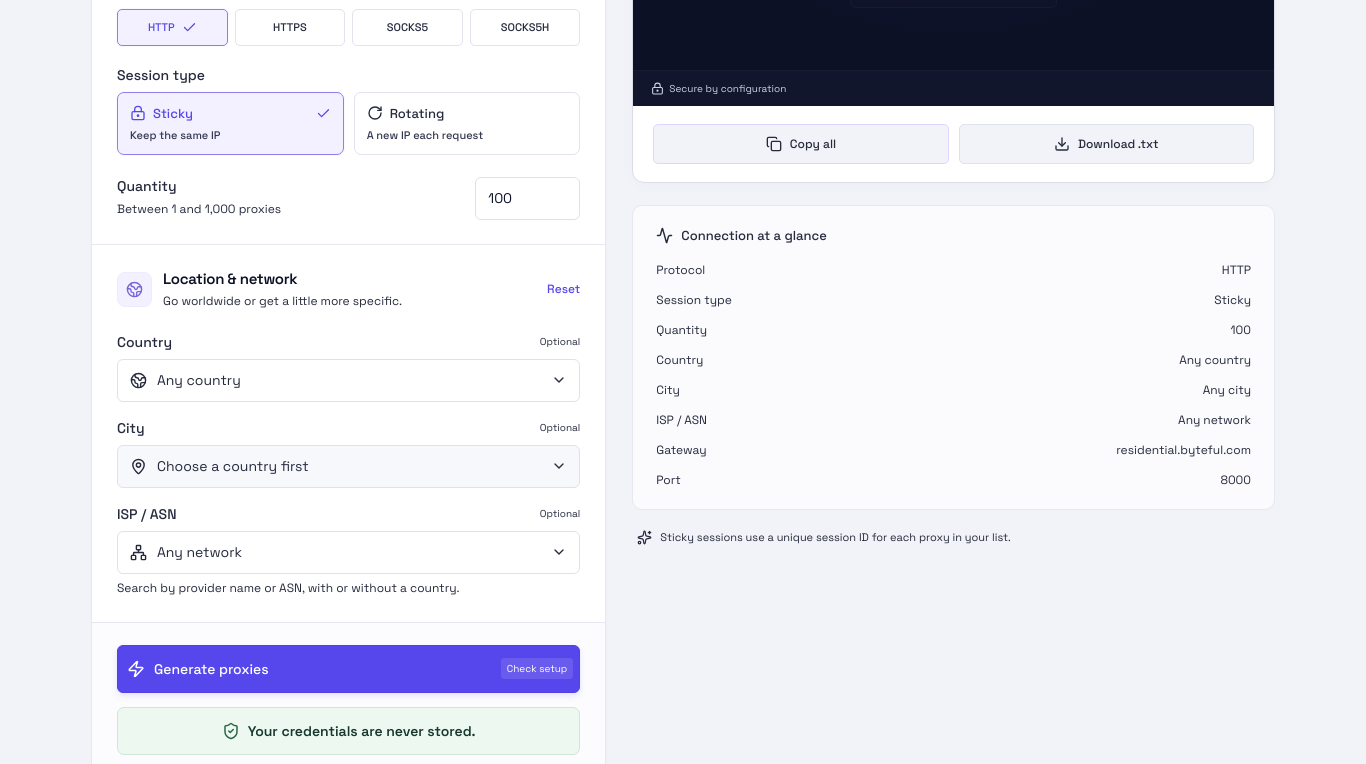
generator user flow › debounces location search and gives actionable empty results
(page scrolled)
Click the button "Any country" at (199, 380), box [117, 359, 580, 402]
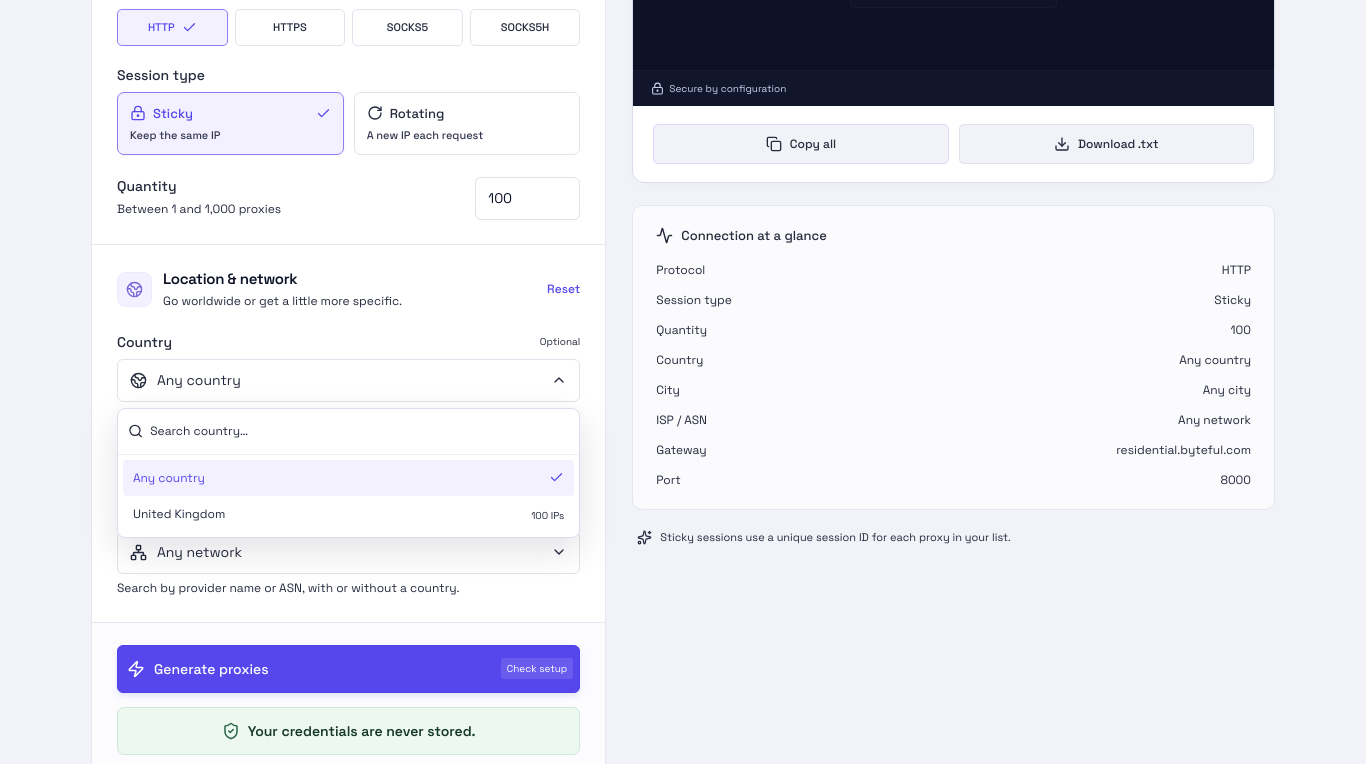
expect the option "United Kingdom 100 IPs" is shown: met, box [123, 496, 574, 532]
Type "Atlantis" into the dropdown labelled "Search country" at (360, 431), box [150, 415, 569, 448]
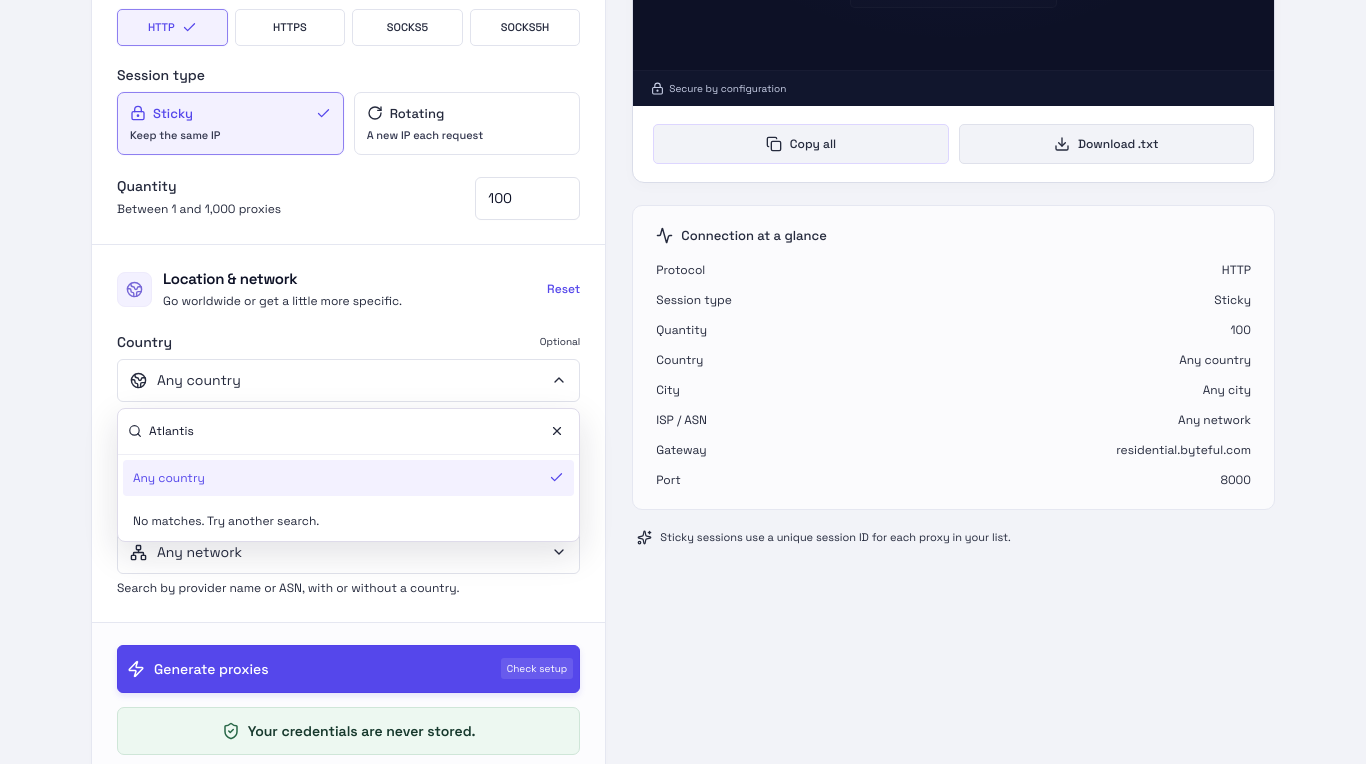
expect the text "No matches. Try another search." is shown: met, box [133, 513, 319, 529]
